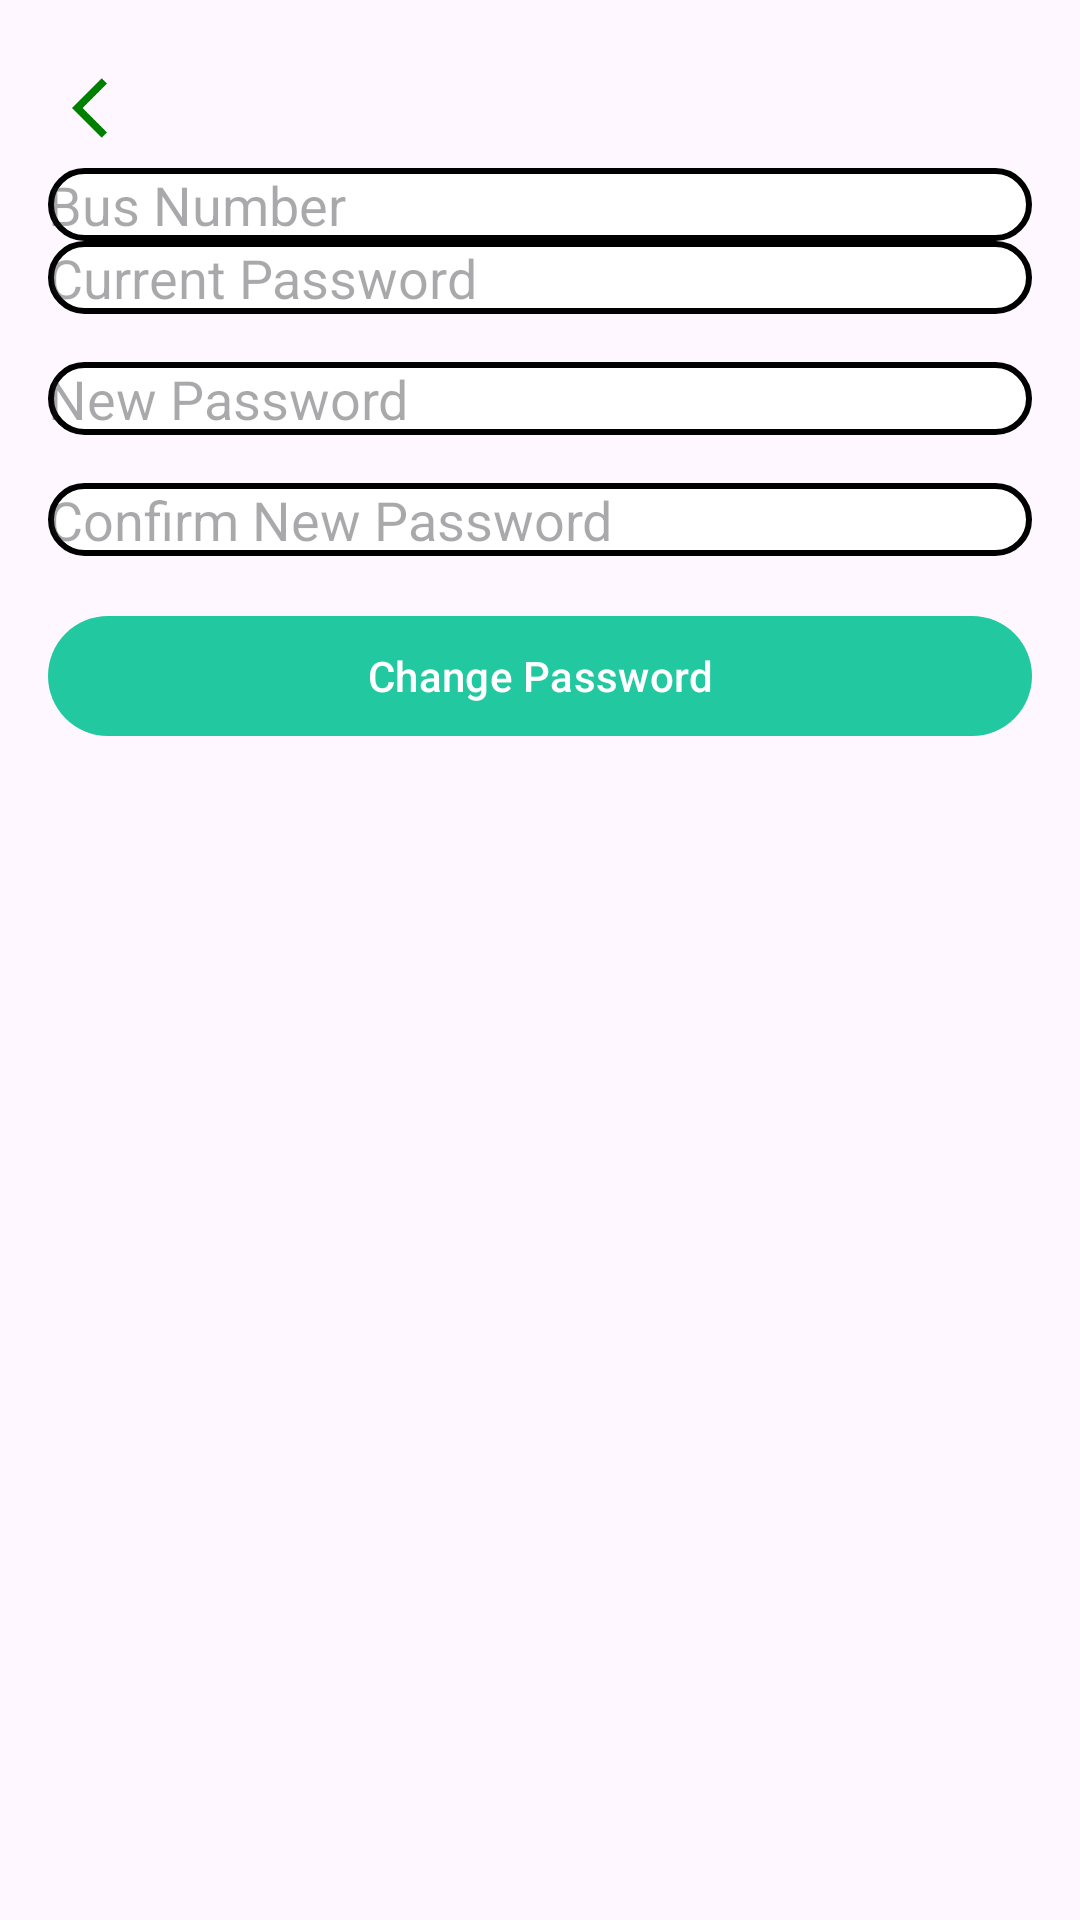

Screen size 1080px×1920px. Icon name, then its center in pixels as point (x, y):
Back: point (89, 108)
